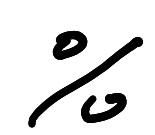div: (29, 31, 143, 128)
